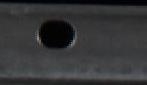holes: (35, 16, 77, 50)
